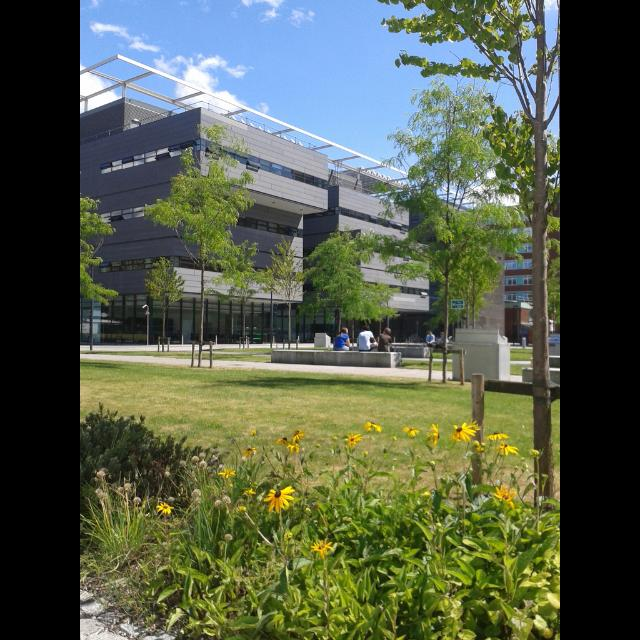Flower: (80, 398, 238, 520), (245, 483, 297, 527), (464, 437, 491, 461), (454, 420, 482, 442), (492, 486, 518, 509), (306, 540, 338, 558), (426, 424, 444, 451), (362, 420, 382, 438), (402, 424, 422, 441), (500, 441, 524, 454), (290, 427, 306, 445), (246, 445, 262, 461), (458, 514, 474, 530), (278, 435, 290, 453), (344, 432, 361, 444), (489, 430, 505, 442), (287, 443, 305, 453), (248, 425, 260, 439), (284, 530, 294, 546), (420, 489, 436, 499), (222, 530, 234, 542), (215, 541, 229, 551), (529, 448, 543, 458), (428, 458, 438, 468)
